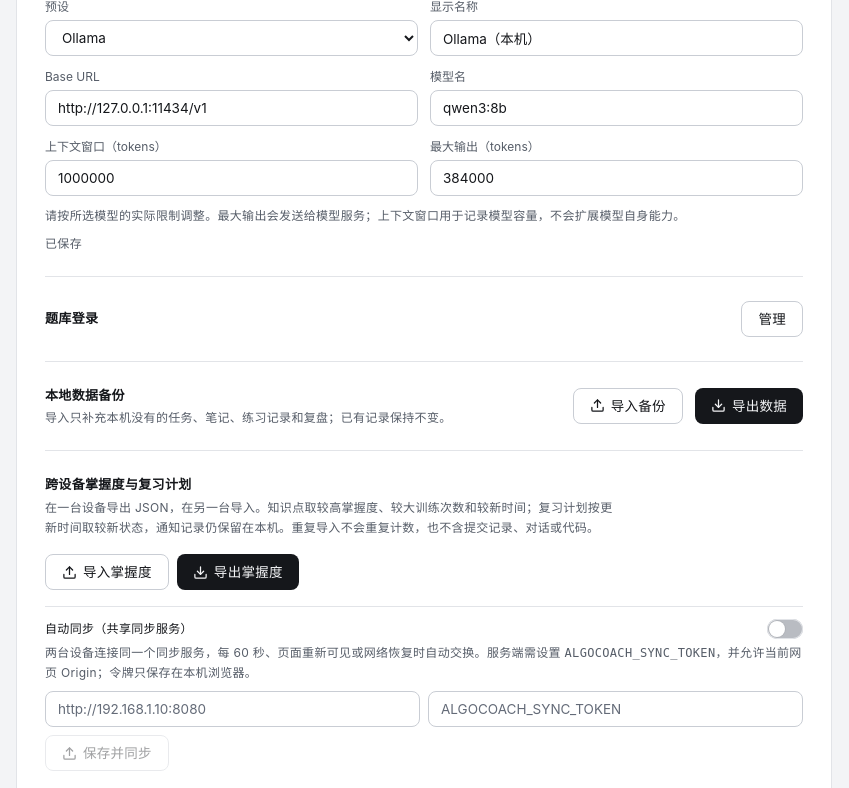
Test: provider setup return path › exports workspace data even when the agent is unavailable
This screenshot has width=849, height=788.
(page scrolled)
Step 1. Click the button "导出数据" → (749, 406), box [695,388,803,424]
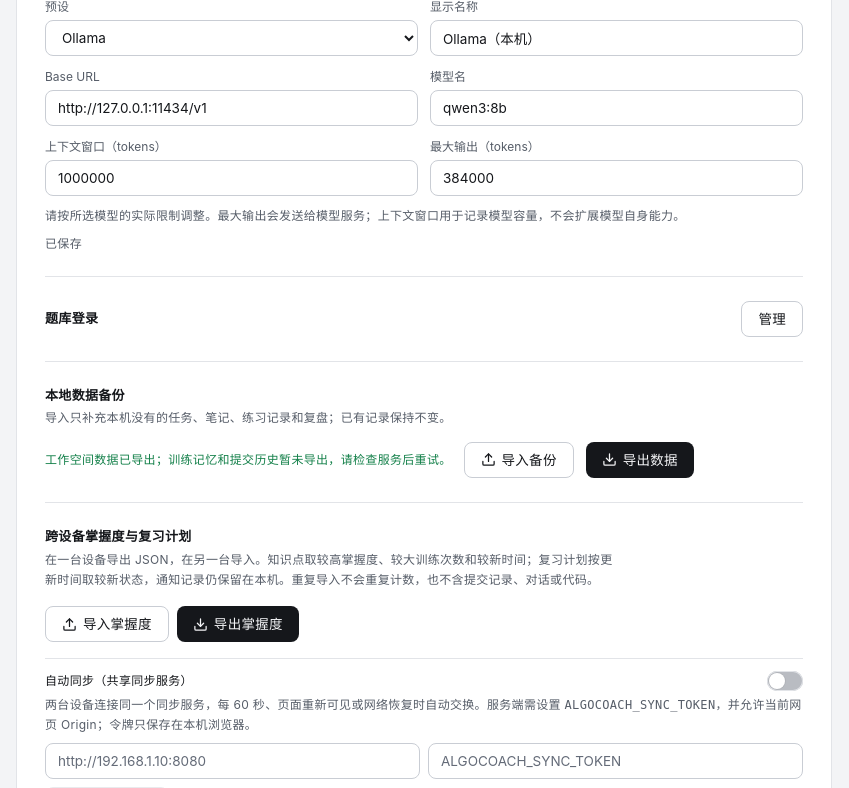
Now the message "工作空间数据已导出；训练记忆和提交历史暂未导出，请检查服务后重试。" is shown, box [45,452,452,468]
